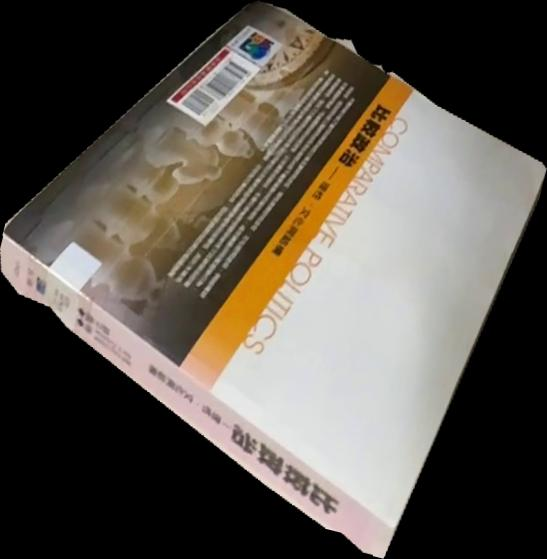flat: (1, 1, 547, 559)
